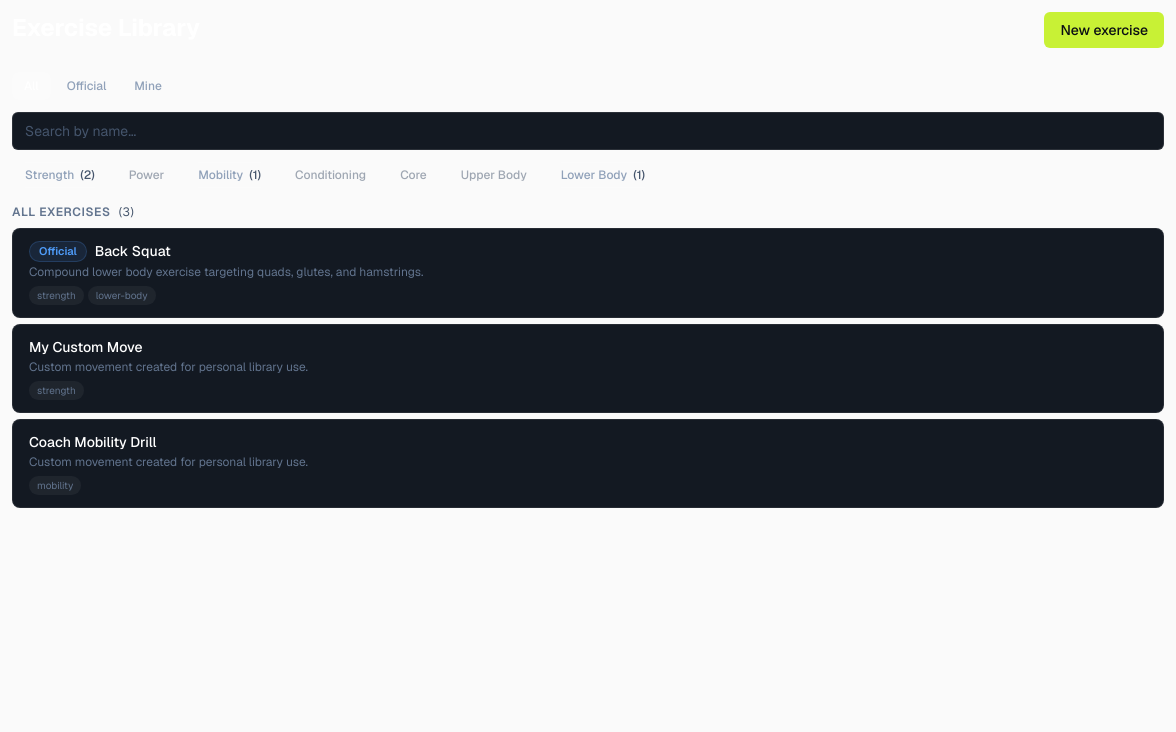
it: ExercisesPage — scope selector › scope combines with tag filters
Expected: the text "Back Squat" is shown, [95,241,171,261]
# Select "Mine" scope
Click the button "Mine": [148, 86] box [122,72,174,100]
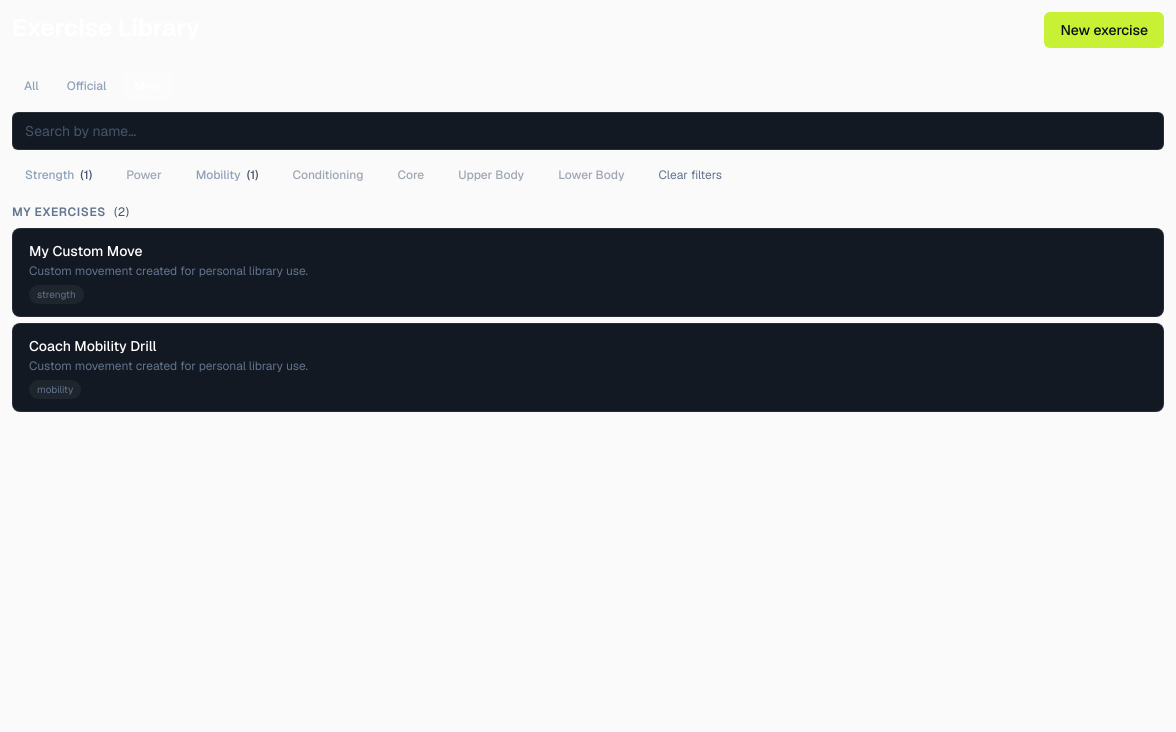
# Activate "strength" tag
Click the button "Strength(1)": [59, 175] box [12,162,105,188]
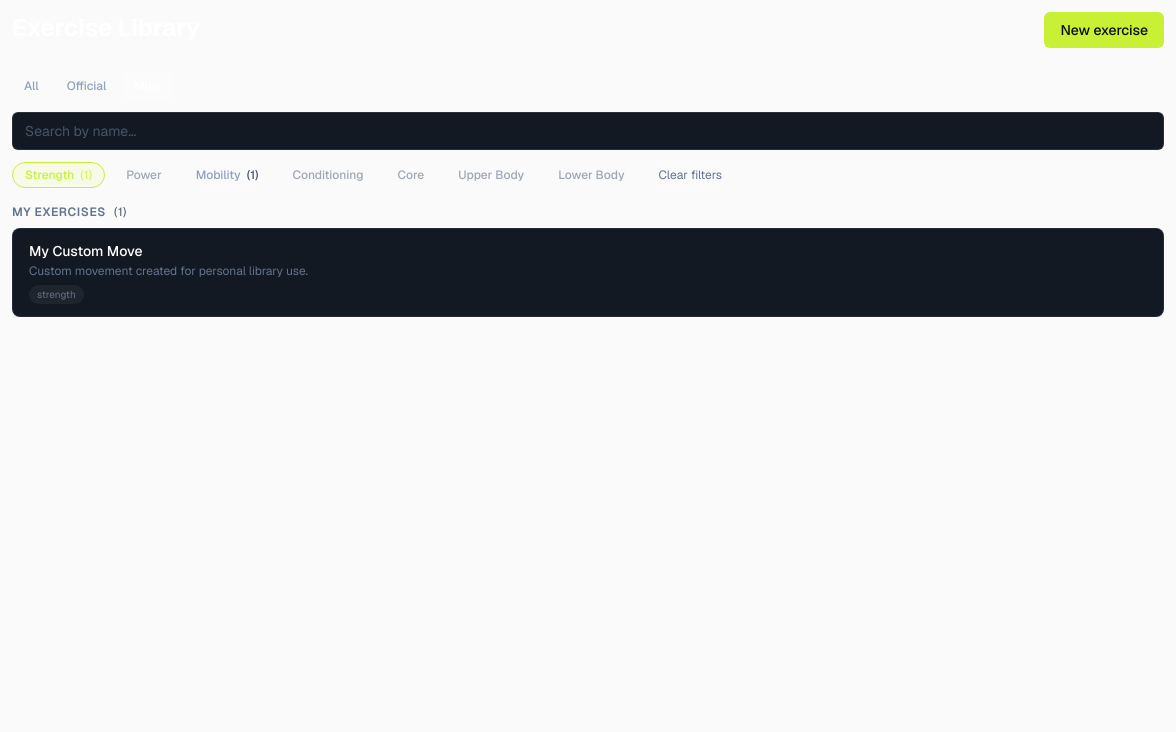
Expected: the text "My Custom Move" is shown, [29,241,143,261]
Now the text "Coach Mobility Drill" is gone
